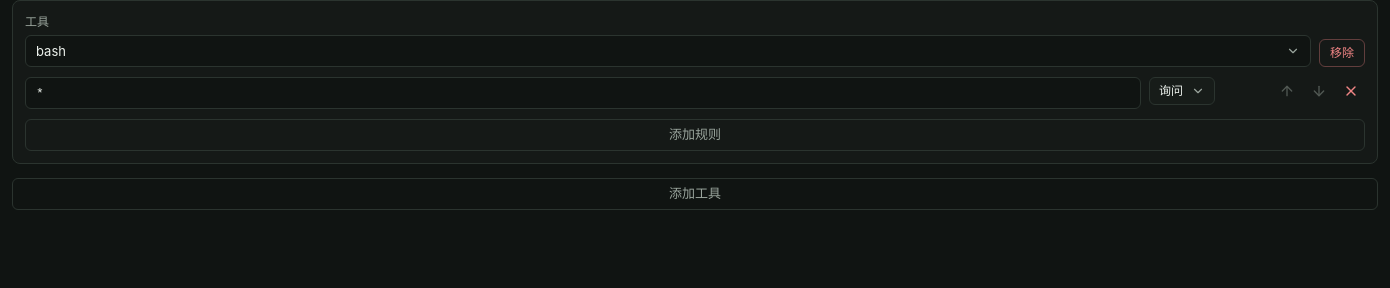
Test: PermissionEditor UI › adds and removes rules for a tool
Check: the number of fields named "第 1 条规则的模式" is 1, box [25,77,1141,109]
Click the button "添加规则" at (695, 135), box [25,119,1365,151]
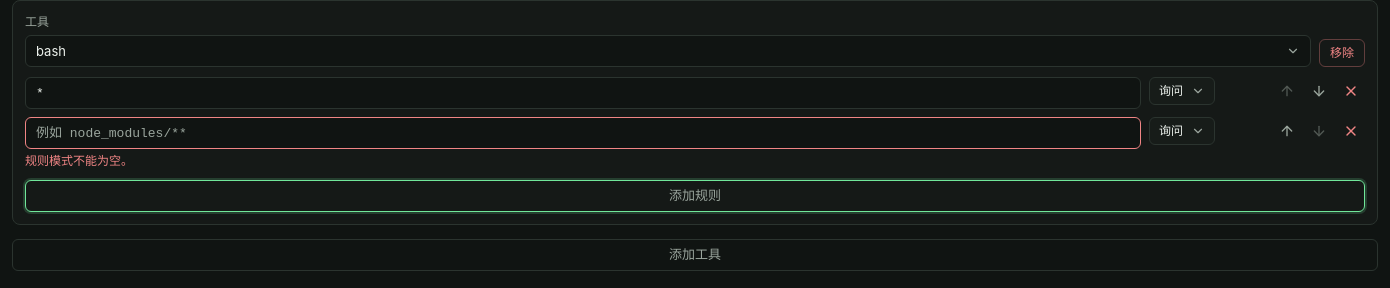
Check: the number of fields named "第 1 条规则的模式" is 2, box [25,77,1141,109]; [25,117,1141,149]
Check: the number of buttons named "移除第 2 条规则" is 1
Click the button named "移除第 2 条规则" at (1351, 131), box [1337,117,1365,145]
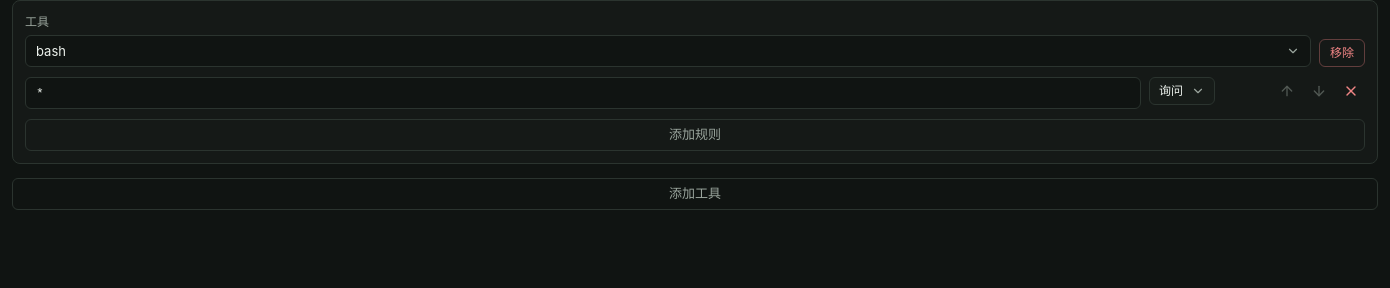
Check: the number of fields named "第 1 条规则的模式" is 1, box [25,77,1141,109]
